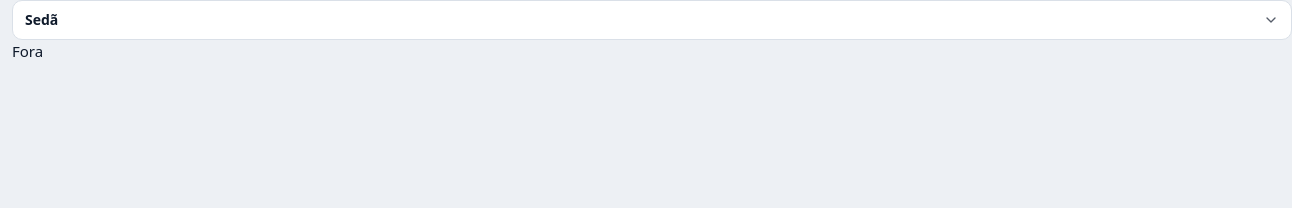
Test: Selecao › mostra a opção escolhida e abre a lista com ela marcada
What coordinates should you click on to do the following:
click the dropdown named "Carroceria"
I would click on:
 (652, 20)
Its box is [12,0,1291,40].
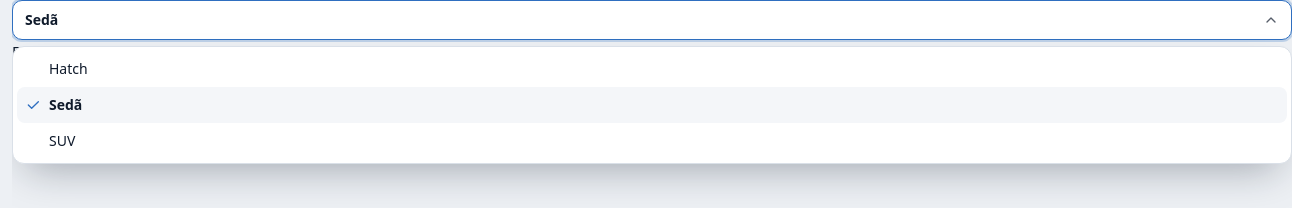
Expected: the text "Sedã" is shown, [25,10,58,30]
Result: the dropdown named "Carroceria" is expanded at [12,0,1291,40]
Result: the options read "Hatch", "Sedã", "SUV", in this order at [49,59,88,78]; [17,87,1287,123]; [49,131,75,150]
